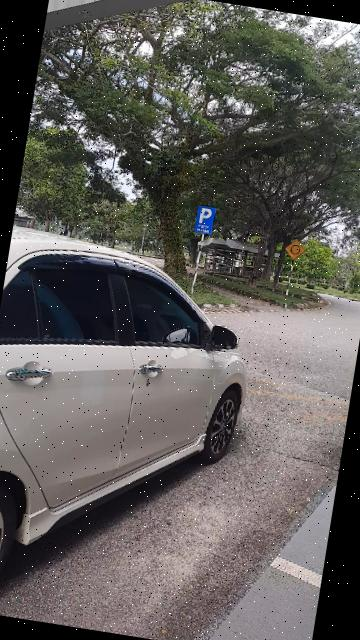car: (1, 204, 275, 640)
